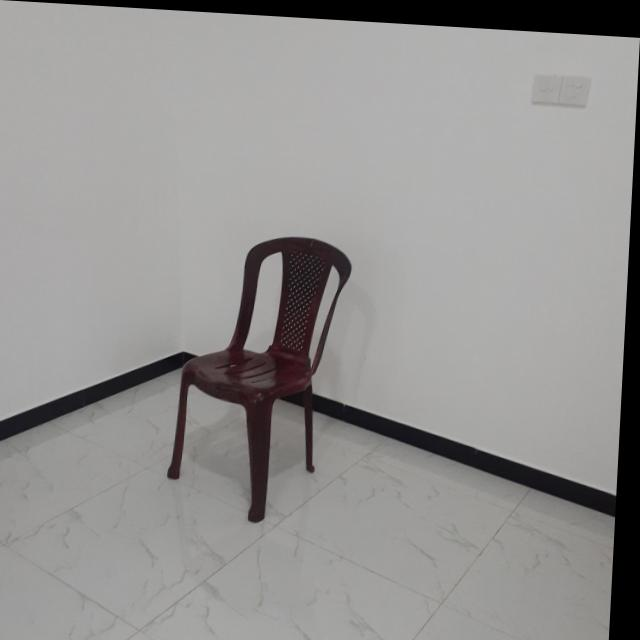Chair: (170, 227, 357, 524)
